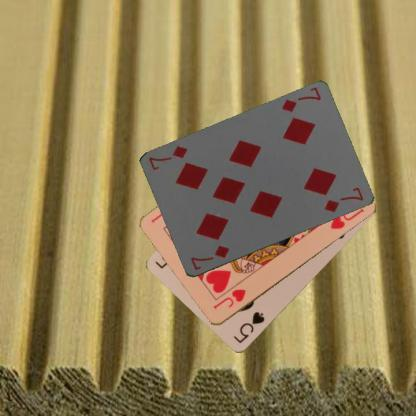5s: (231, 309, 266, 346)
7d: (278, 85, 323, 114), (188, 242, 230, 272)
Jh: (210, 286, 248, 311)
